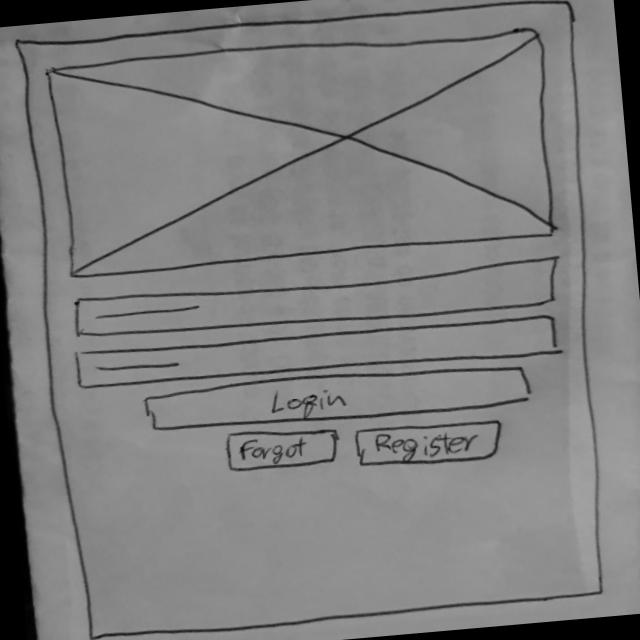button: (133, 353, 546, 441), (347, 412, 509, 476), (216, 420, 346, 478)
container: (3, 0, 619, 640)
image: (40, 18, 567, 284)
input: (68, 253, 568, 349), (63, 306, 573, 400)
